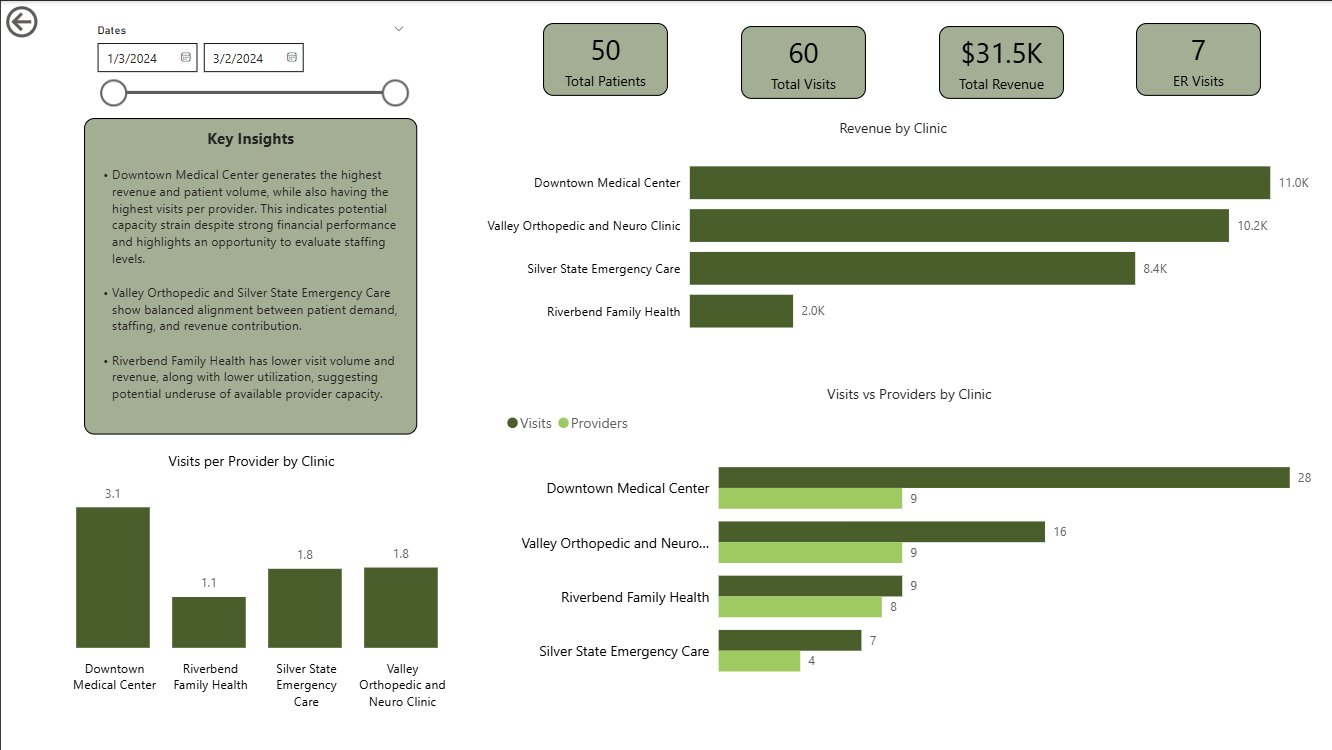

The page's visual inventory and layout, read from the dashboard file:
{"tool":"powerbi","page":{"name":"Clinic Overview","canvas":[1280,720],"ordinal":0},"visuals":[{"type":"card","fields":{"Values":["Measures..Total Patients"]},"box":[520.7,21.1,120,69.9],"z":0},{"type":"card","fields":{"Values":["Measures..Total Visits"]},"box":[710.5,23.7,120,69.9],"z":1000},{"type":"card","fields":{"Values":["Measures..Total Revenue"]},"box":[900.4,23.7,120,69.9],"z":2000},{"type":"card","fields":{"Values":["Measures..ER Visits"]},"box":[1090.2,21.1,120,69.9],"z":3000},{"type":"slicer","fields":{"Values":["visits.visit_date"]},"box":[80,16,320,96],"z":4000},{"type":"clusteredBarChart","title":"Revenue by Clinic","fields":{"Y":["Sum(visits.total_charge)"],"Category":["clinics.clinic_name"]},"box":[448,112,816,224],"z":5000},{"type":"clusteredBarChart","title":"Visits vs Providers by Clinic","fields":{"Y":["Count(visits.visit_id)","CountNonNull(providers.provider_id)"],"Category":["clinics.clinic_name"]},"box":[480,368,784,304],"z":6000},{"type":"actionButton","box":[0,0,100,40],"z":7000},{"type":"clusteredColumnChart","title":"Visits per Provider by Clinic","fields":{"Category":["clinics.clinic_name"],"Y":["Measures..Visits per Provider"]},"box":[16,432,448,256],"z":8000},{"type":"textbox","box":[80,112,320,304],"z":9000}]}

Visuals, with their boxes in screenshot pixels (x1, y1, x2, y2), scaled from the page's 1280x720 canvas onto the 1332x750 screenshot:
card - Measures..Total Patients: locate(542, 22, 667, 95)
card - Measures..Total Visits: locate(739, 25, 864, 98)
card - Measures..Total Revenue: locate(937, 25, 1062, 98)
card - Measures..ER Visits: locate(1134, 22, 1259, 95)
slicer - visits.visit_date: locate(83, 17, 416, 117)
"Revenue by Clinic" clusteredBarChart: locate(466, 117, 1315, 350)
"Visits vs Providers by Clinic" clusteredBarChart: locate(499, 383, 1315, 700)
actionButton: locate(0, 0, 104, 42)
"Visits per Provider by Clinic" clusteredColumnChart: locate(17, 450, 483, 717)
textbox: locate(83, 117, 416, 433)
